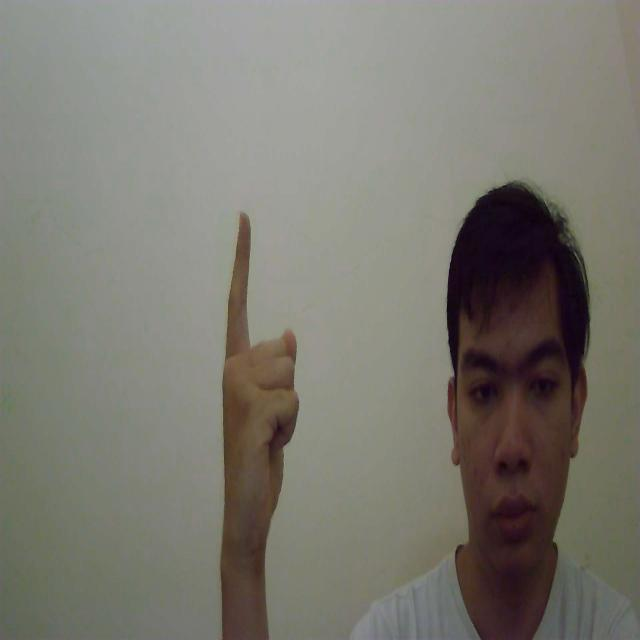D: (222, 210, 301, 542)
